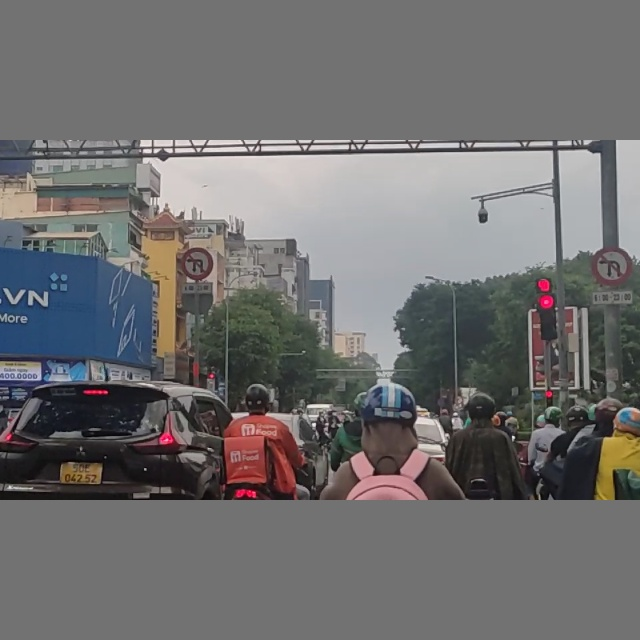P.124c: (596, 248, 629, 281), (183, 247, 213, 279)
